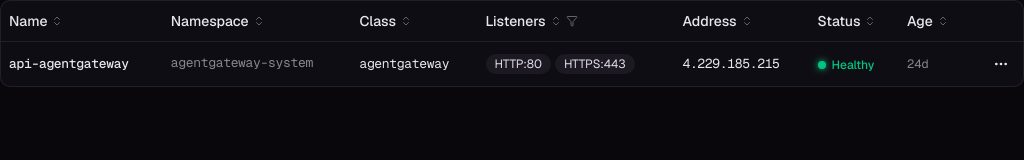
Test: ResourceTable › hides Edit and Delete for read-only descriptors
This screenshot has width=1024, height=160.
Click the button named "Row actions": (1001, 64) [987, 50, 1015, 78]
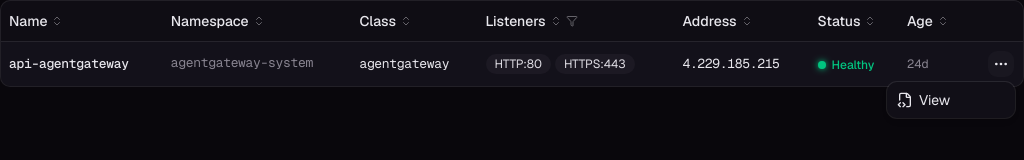
Check: the menu item "View" is shown, box [897, 91, 950, 109]
